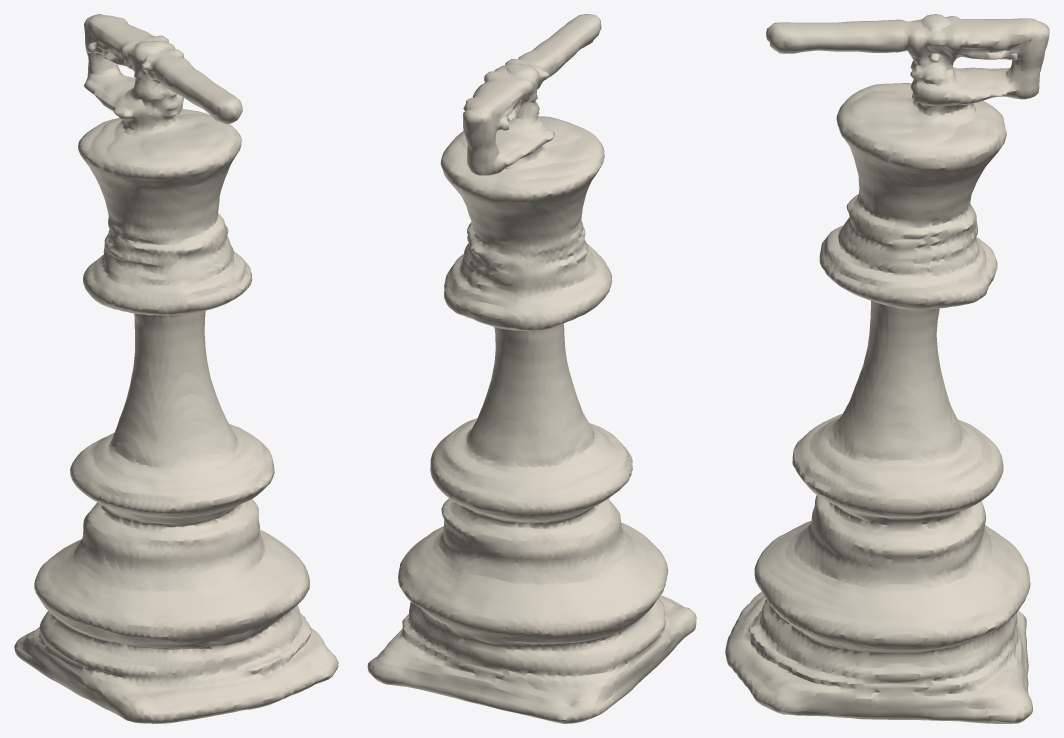
File: king.glb
3 renders of one model, left to right at view 1: azimuth 30°, elevation 25°; view 2: azimuth 150°, elevation 25°; view 3: azimuth 270°, elevation 25°, orthographic. The views are drawn at different scales.
Parts seen in each view (by area): view 1: king; view 2: king; view 3: king.
Boxes of the visible parts, bbox=[...] form: king: bbox=[14, 14, 338, 723]; king: bbox=[367, 14, 696, 723]; king: bbox=[725, 14, 1049, 723].
Size of the model in its own units: 0.4034 by 0.9997 by 0.4501.
